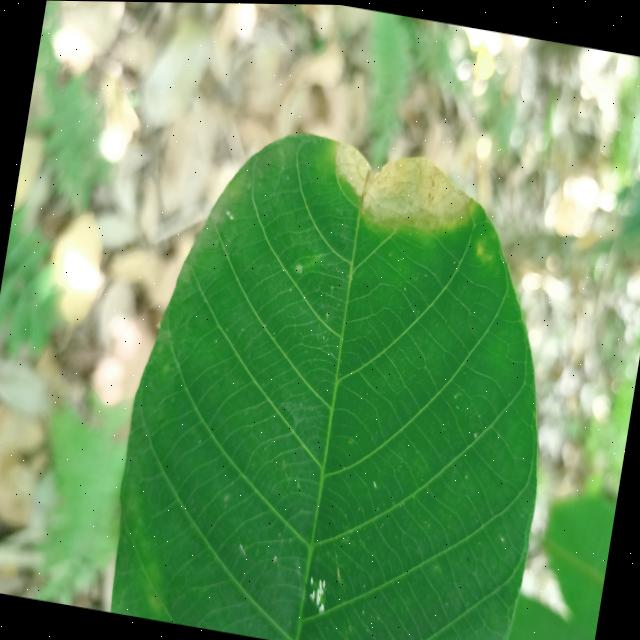Leaf-Blight: (326, 139, 480, 240)
